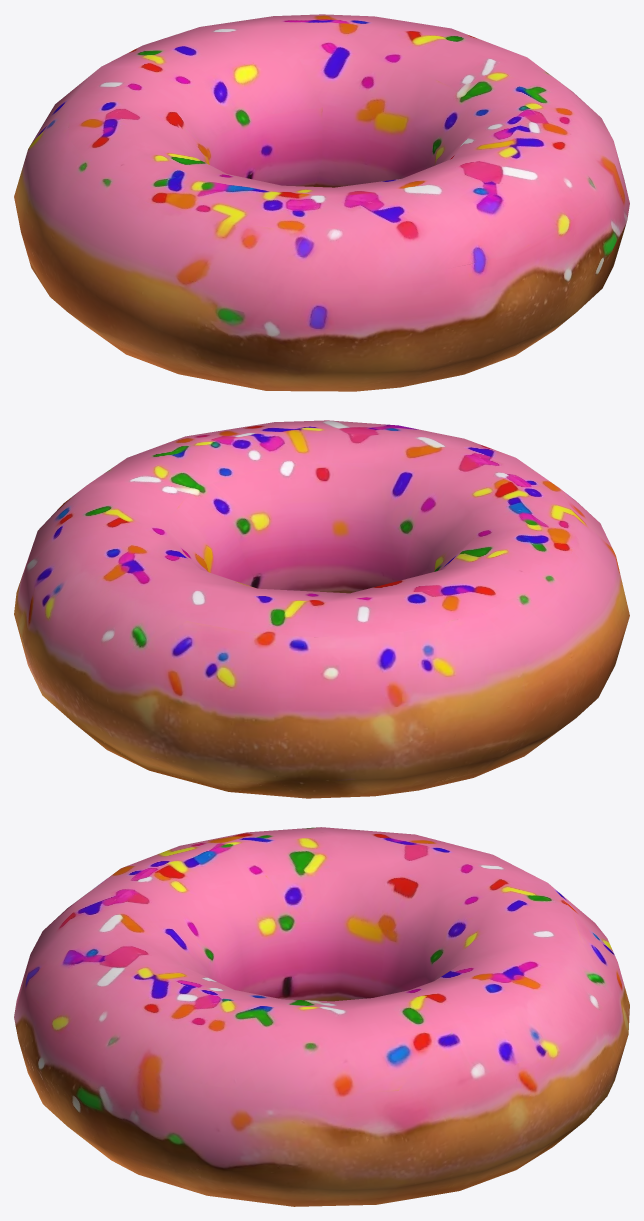
The model's file is donut.glb.
The picture shows the model from 3 angles, top to bottom: view 1: azimuth 30°, elevation 25°; view 2: azimuth 150°, elevation 25°; view 3: azimuth 270°, elevation 25°; orthographic projection.
Parts seen in each view (by area): view 1: Mesh1.0; view 2: Mesh1.0; view 3: Mesh1.0.
Part boxes in pixels (<box>): Mesh1.0: <box>14,14,629,391</box>; Mesh1.0: <box>14,420,629,798</box>; Mesh1.0: <box>14,827,629,1206</box>.
Size of the model in its own units: 2 by 0.6719 by 2.
Materials: 1 (1 with a texture image).
